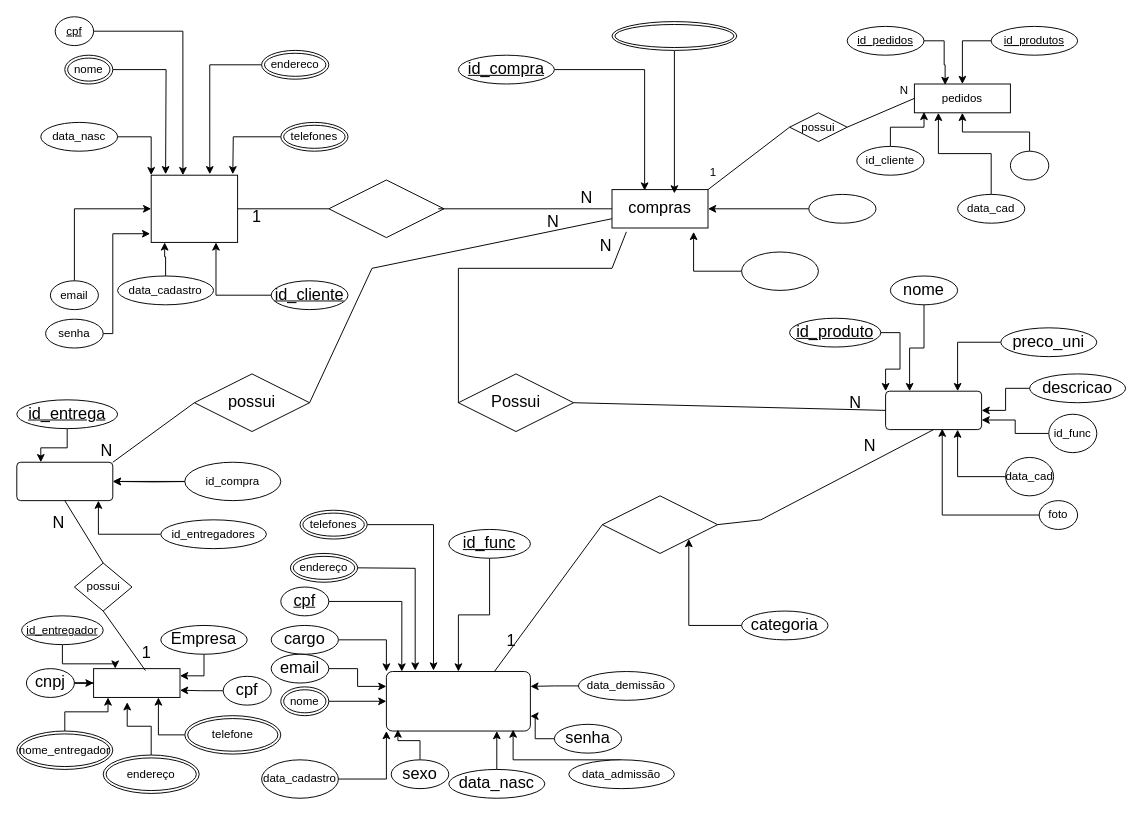
Image size: 1142x815. Some labels were removed from this diagram. Each missing label, with the centre of its shape:
"cadastra" belongs at pixel 659 524.
"Clientes" belongs at pixel 194 208.
"data_compra" belongs at pixel 779 270.
"endereco_de_entrega" belongs at pixel 674 35.
"Entrega" belongs at pixel 64 481.
"entregadores" belongs at pixel 136 682.
"funcionarios" belongs at pixel 457 701.
"produtos" belongs at pixel 933 410.
"qdt" belongs at pixel 1029 165.
"Realiza" belongs at pixel 386 208.
"v_total" belongs at pixel 842 208.
